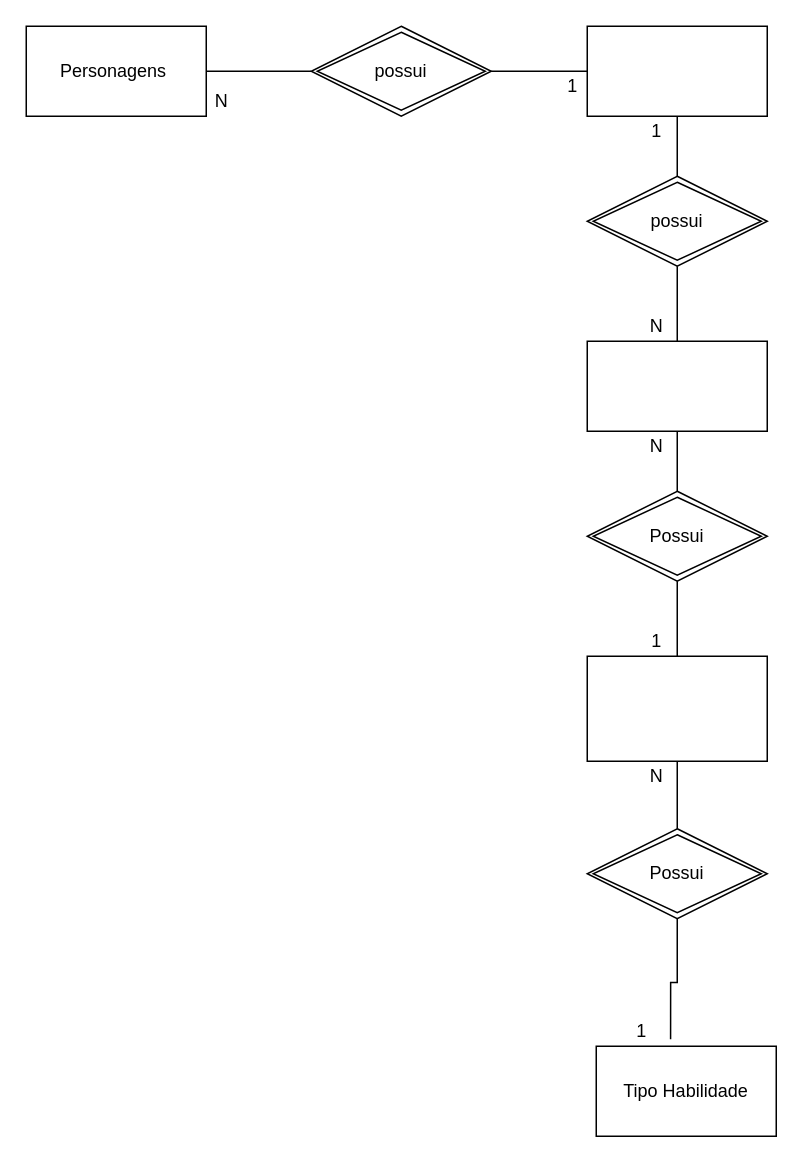
Image size: 803x1163. Some labels were removed from this diagram. The shapes that lost their labels are listed below. From the top down, each one's centre as x and y in pixels, then its label:
pixel 676 70: Classes
pixel 676 385: Classe_Habilidade
pixel 676 708: Habilidade
